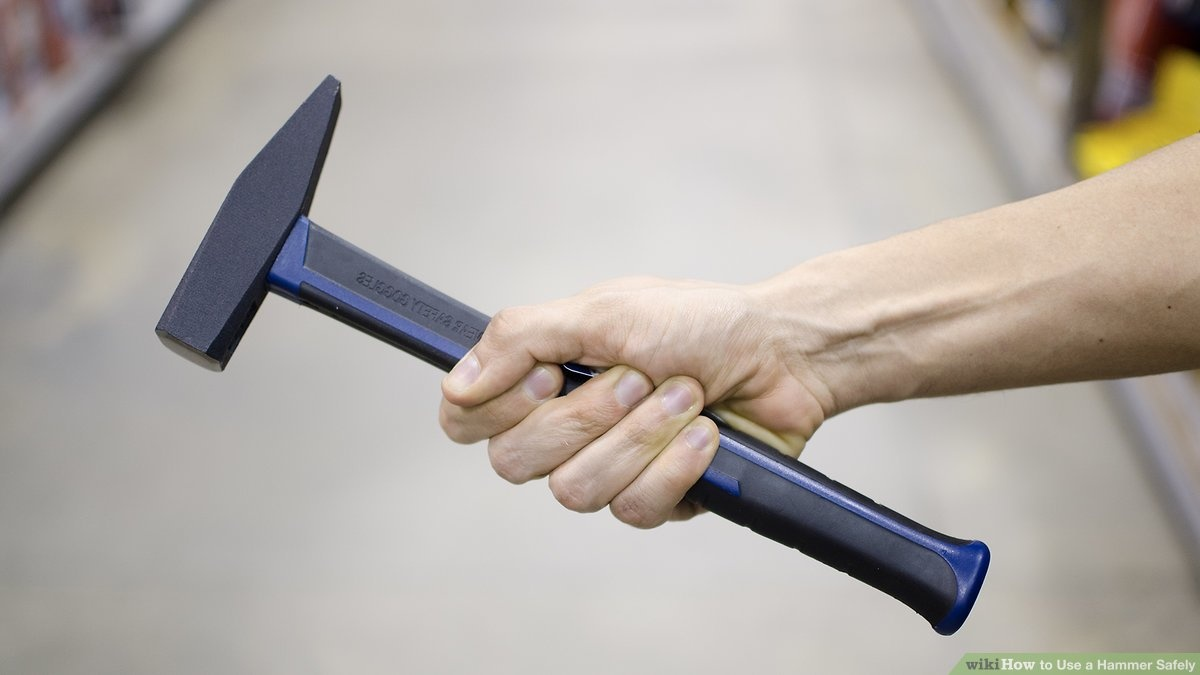hammer: (154, 69, 994, 634)
